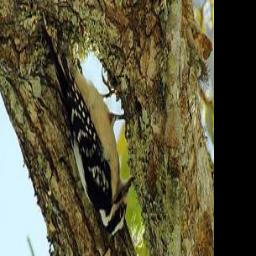Woodpecker: (40, 17, 136, 249)
